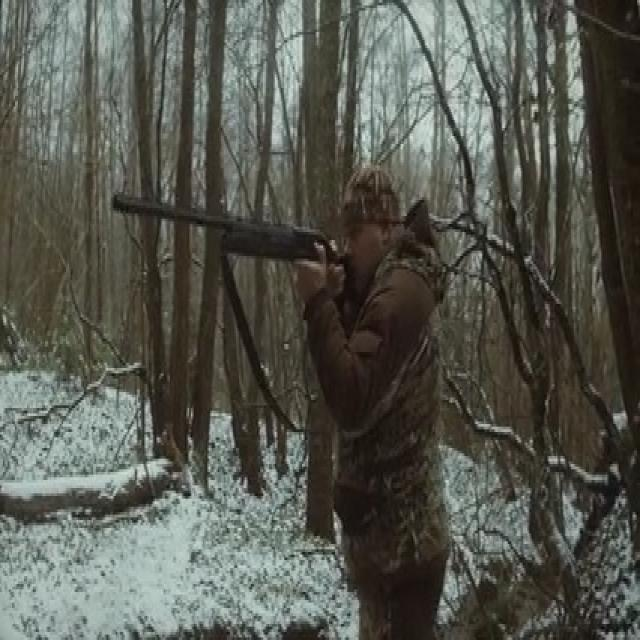Gun_Holder: (107, 185, 346, 315)
Person: (298, 151, 453, 640)
